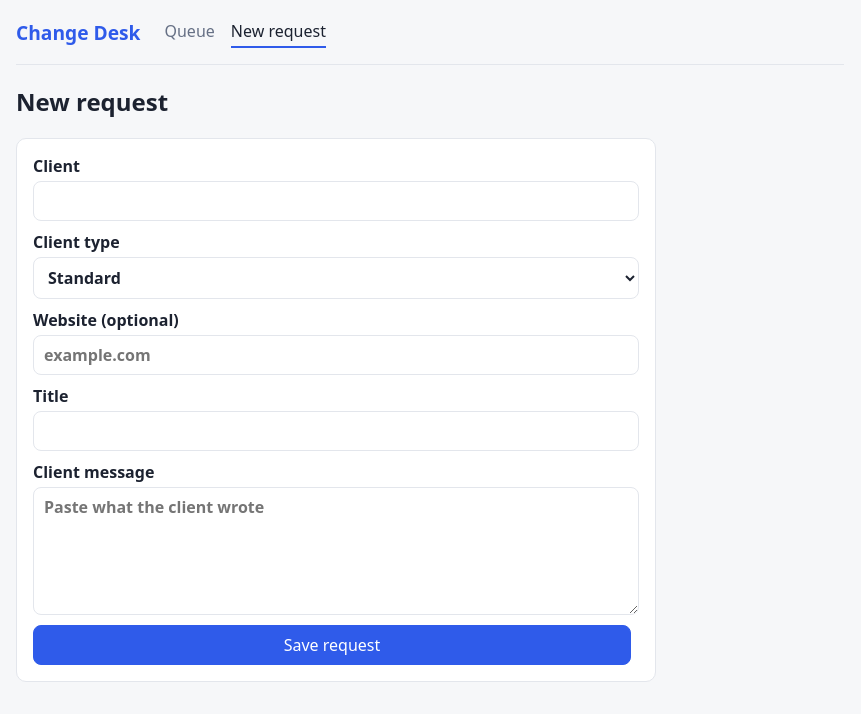
Test case: New request page › saves and opens the request (AC3)
Type "Acme" into the field labelled "Client" at (336, 201), box [33,181,639,221]
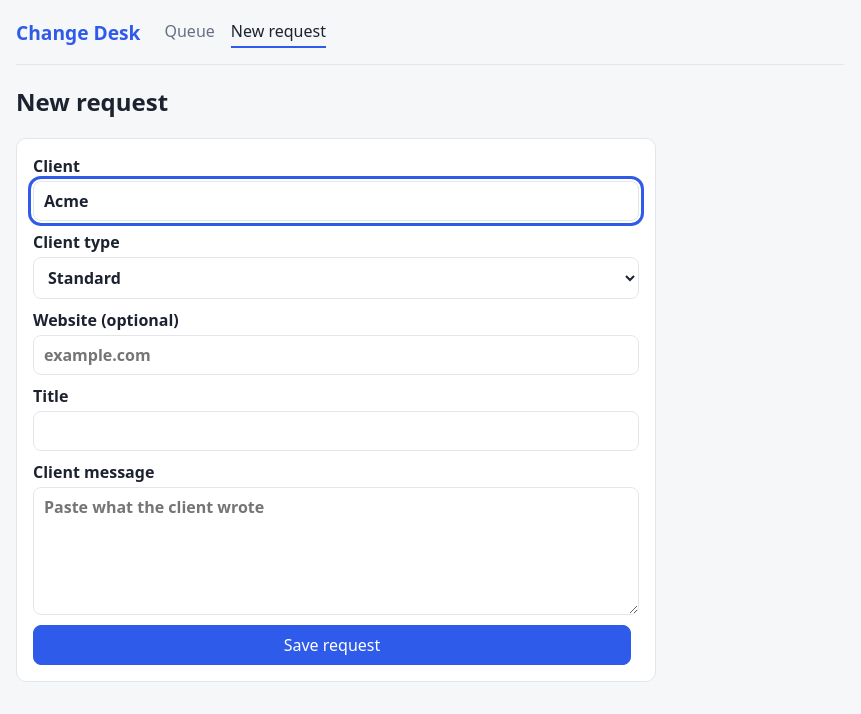
Type "Change phone" into the field labelled "Title" at (336, 431), box [33,411,639,451]
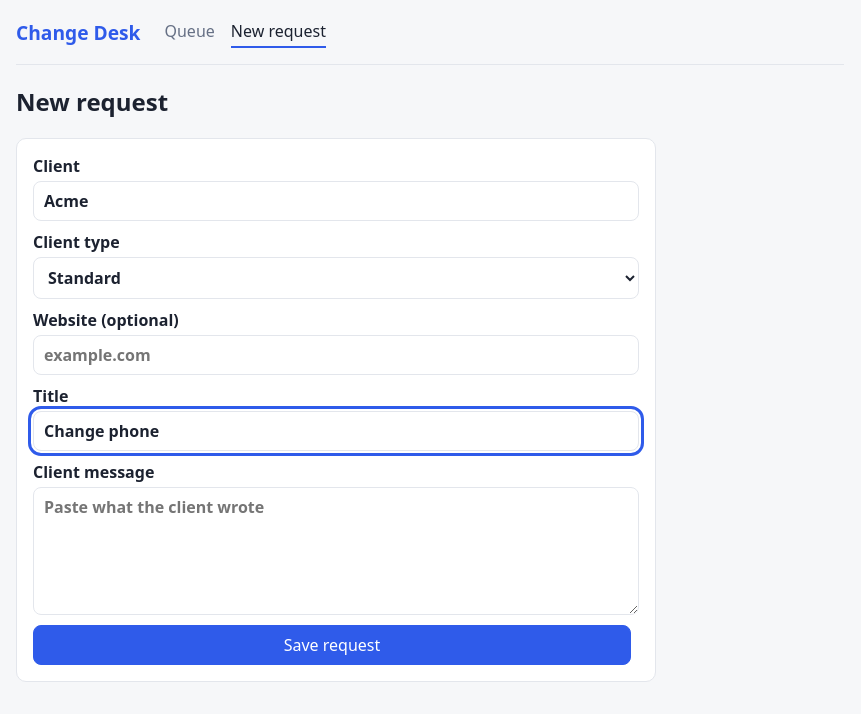
Type "Please change the phone number on the contact page." into the text box labelled "Client message" at (336, 551), box [33,487,639,615]
(page scrolled)
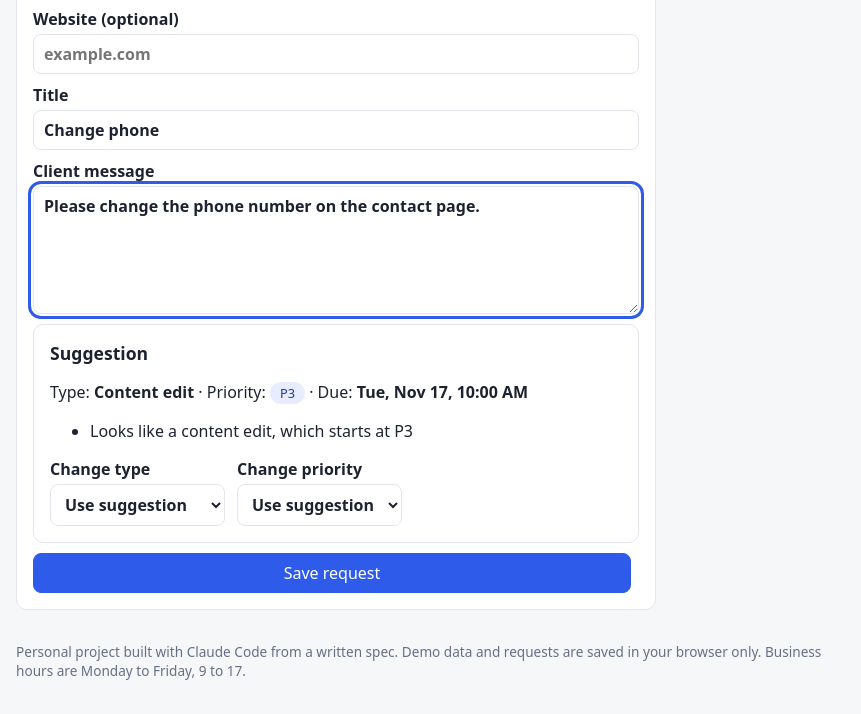
Click the button "Save request" at (332, 573), box [33,553,631,593]
(page scrolled)
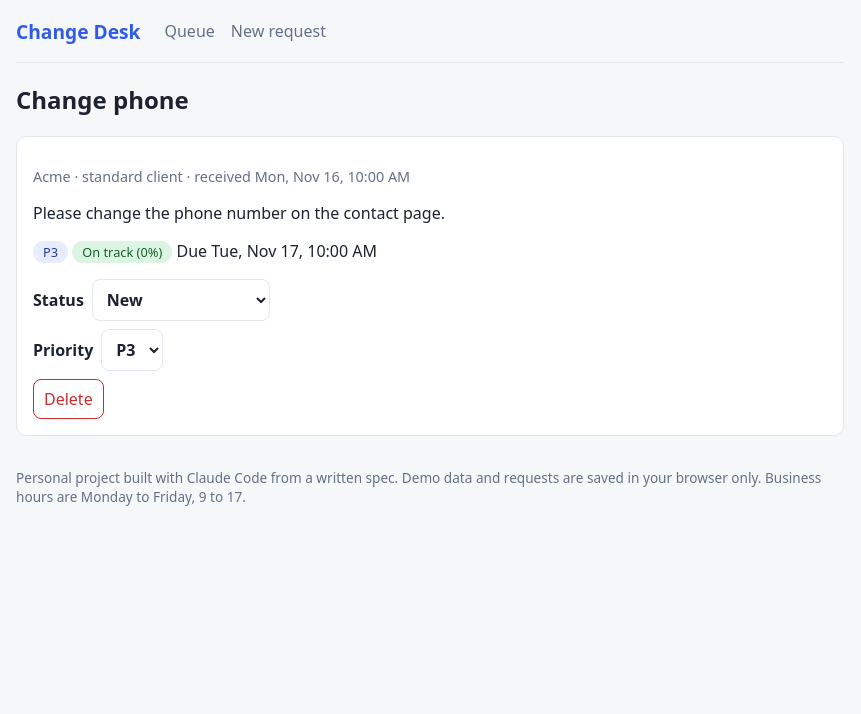
Result: the heading "Change phone" is shown at [16,83,189,116]
